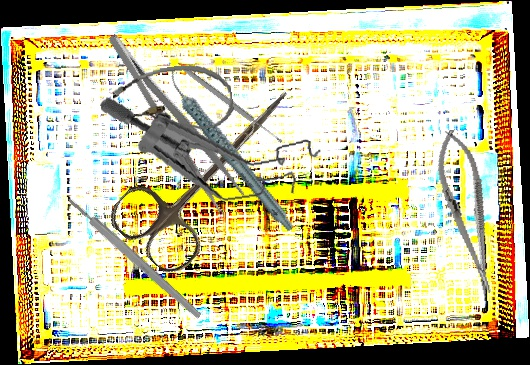Cannula: (109, 59, 237, 141)
Dressing Forceps: (103, 21, 247, 215)
Handpiece: (166, 50, 296, 250)
Iris Scissors: (103, 57, 318, 282)
Needle Holder: (428, 125, 507, 299)
Scalpel Handle: (66, 195, 203, 321)
Speculum: (99, 66, 328, 223)
Surgical Spoon: (182, 65, 284, 146)
